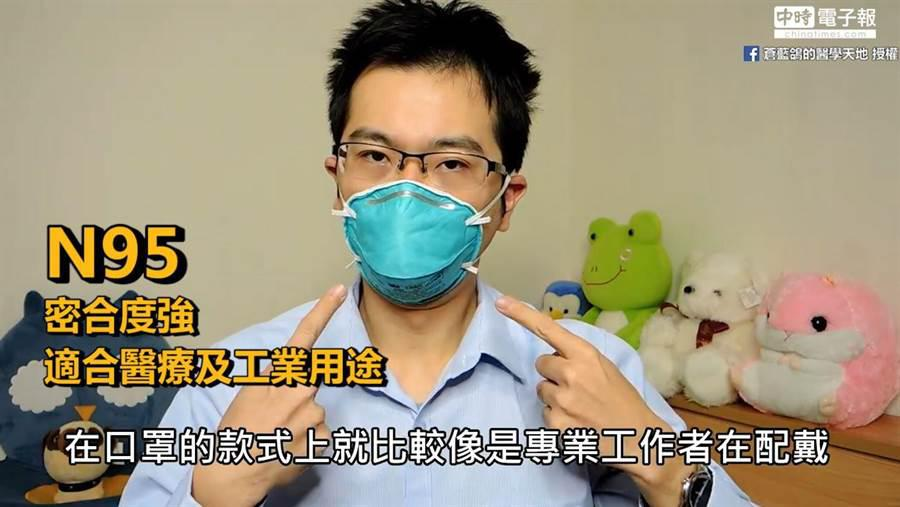mask: (337, 125, 501, 305)
